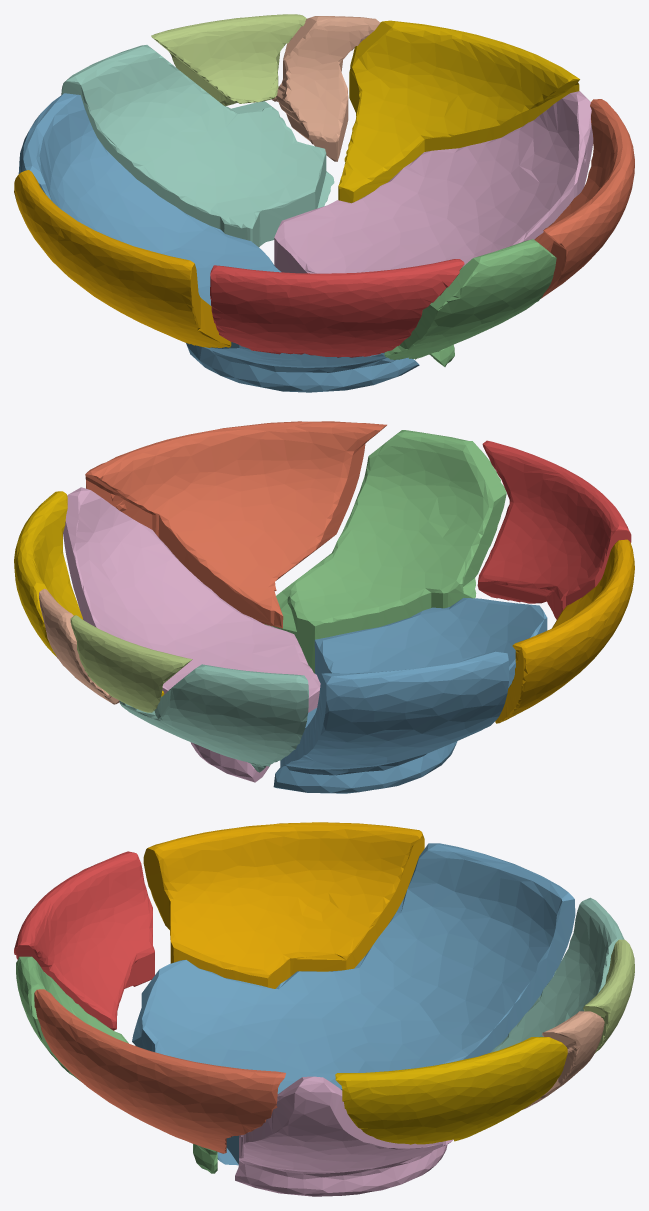
The picture shows the model from 3 angles, top to bottom: view 1: azimuth 30°, elevation 25°; view 2: azimuth 150°, elevation 25°; view 3: azimuth 270°, elevation 25°; orthographic projection.
Visible parts, largest first — view 1: AssimpScene_6, AssimpScene_4, AssimpScene_8, AssimpScene_2, AssimpScene_1, AssimpScene, AssimpScene_3, AssimpScene_5, AssimpScene_7, AssimpScene_9; view 2: AssimpScene_9, AssimpScene_2, AssimpScene_3, AssimpScene_6, AssimpScene_1, AssimpScene_4, AssimpScene, AssimpScene_5, AssimpScene_8, AssimpScene_7; view 3: AssimpScene_2, AssimpScene, AssimpScene_9, AssimpScene_1, AssimpScene_8, AssimpScene_6, AssimpScene_4, AssimpScene_3, AssimpScene_5, AssimpScene_7.
Boxes of the visible parts, <box> form: AssimpScene_6: <box>274,91,593,273</box>; AssimpScene_4: <box>61,45,334,246</box>; AssimpScene_8: <box>338,20,579,203</box>; AssimpScene_2: <box>18,93,419,392</box>; AssimpScene_1: <box>210,259,464,357</box>; AssimpScene: <box>14,170,231,347</box>; AssimpScene_3: <box>384,239,556,366</box>; AssimpScene_5: <box>151,14,306,106</box>; AssimpScene_7: <box>272,16,379,161</box>; AssimpScene_9: <box>534,99,634,298</box>; AssimpScene_9: <box>85,421,386,628</box>; AssimpScene_2: <box>273,598,547,793</box>; AssimpScene_3: <box>264,430,506,673</box>; AssimpScene_6: <box>63,487,320,782</box>; AssimpScene_1: <box>477,440,631,619</box>; AssimpScene_4: <box>119,664,308,772</box>; AssimpScene: <box>495,539,634,723</box>; AssimpScene_5: <box>70,615,192,712</box>; AssimpScene_8: <box>14,491,164,696</box>; AssimpScene_7: <box>39,588,119,704</box>; AssimpScene_2: <box>132,843,575,1165</box>; AssimpScene: <box>143,822,424,988</box>; AssimpScene_9: <box>34,989,285,1153</box>; AssimpScene_1: <box>14,851,154,1030</box>; AssimpScene_8: <box>335,1037,567,1144</box>; AssimpScene_6: <box>235,1076,453,1196</box>; AssimpScene_4: <box>490,897,624,1052</box>; AssimpScene_3: <box>16,956,217,1173</box>; AssimpScene_5: <box>583,939,634,1052</box>; AssimpScene_7: <box>523,1011,604,1109</box>.
Bounding box in the file's own units: 21.97 × 7.67 × 22.13.
